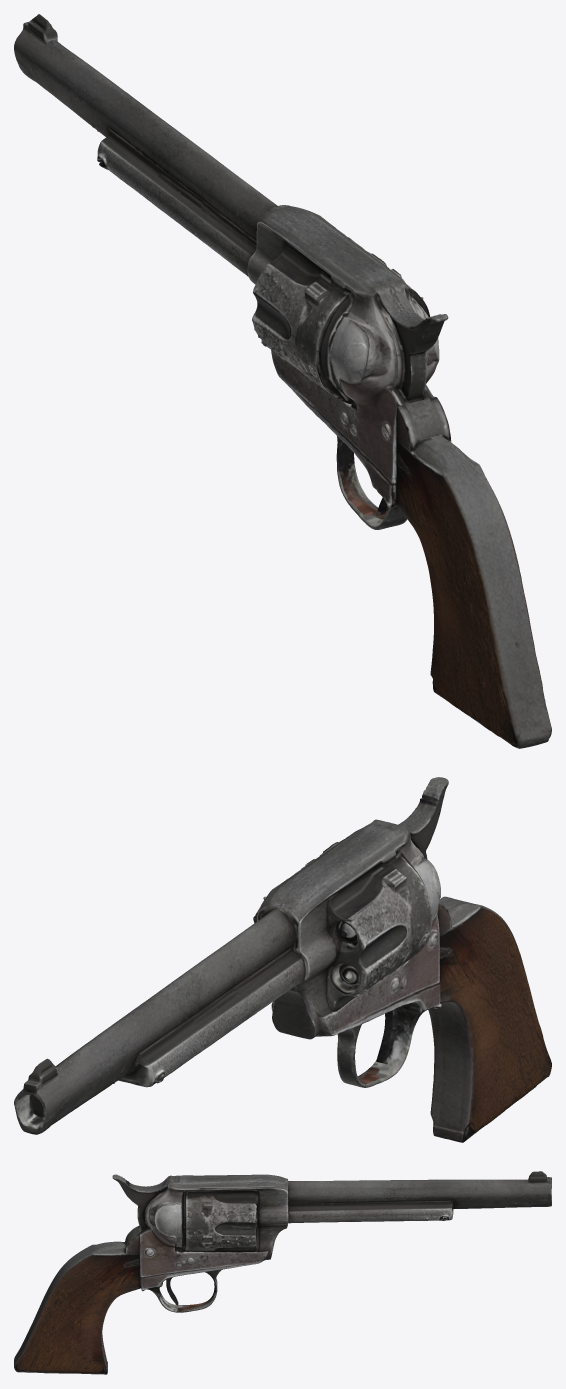
File: revolver.fbx
The picture shows the model from 3 angles, top to bottom: view 1: azimuth 30°, elevation 25°; view 2: azimuth 150°, elevation 25°; view 3: azimuth 270°, elevation 25°; orthographic projection. The views are drawn at different scales.
Parts seen in each view (by area): view 1: tripo_node_63f51d48; view 2: tripo_node_63f51d48; view 3: tripo_node_63f51d48.
Part boxes in pixels (x1,y1,x2,y2): tripo_node_63f51d48: [14, 14, 551, 748]; tripo_node_63f51d48: [14, 777, 551, 1142]; tripo_node_63f51d48: [14, 1171, 551, 1374].
Bounding box in the file's own units: 0.1376 × 0.4088 × 1.
1 material, 1 textured.
